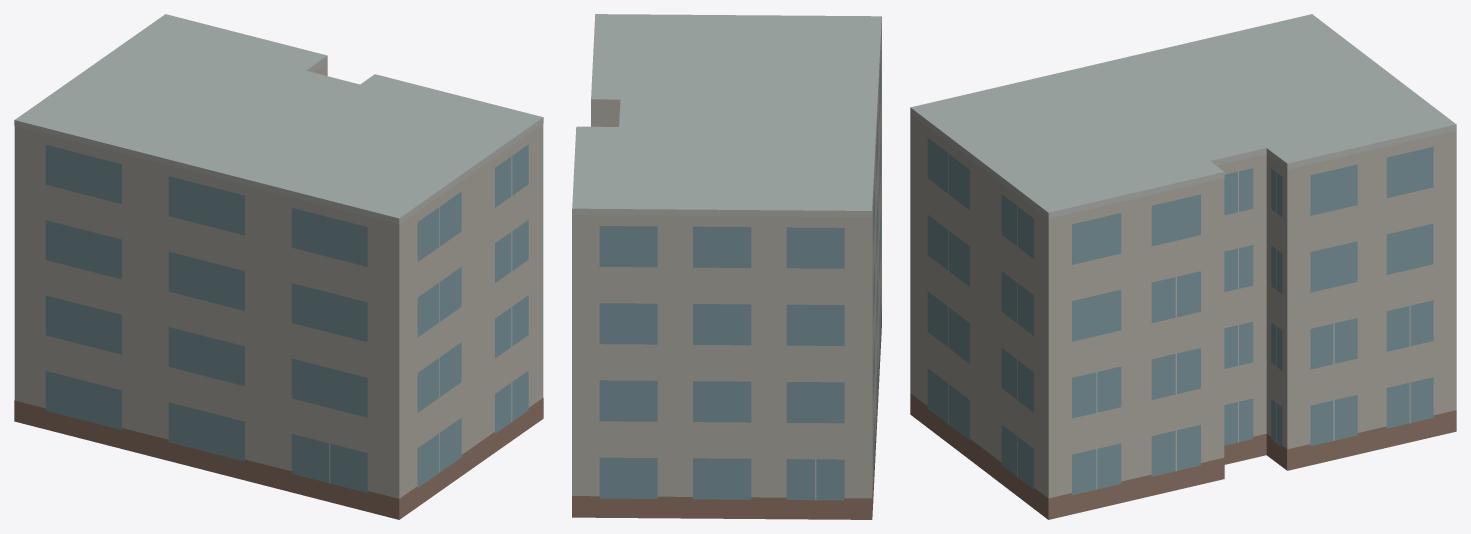
File: survey-upis-32778810.glb
3 renders of one model, left to right at view 1: azimuth 30°, elevation 25°; view 2: azimuth 150°, elevation 25°; view 3: azimuth 270°, elevation 25°, orthographic. The views are drawn at different scales.
Parts seen in each view (by area): view 1: survey-upis-32778810.tmp; view 2: survey-upis-32778810.tmp; view 3: survey-upis-32778810.tmp.
Part boxes in pixels (left/top/right/bottom): survey-upis-32778810.tmp: left=14, top=14, right=543, bottom=519; survey-upis-32778810.tmp: left=572, top=14, right=881, bottom=519; survey-upis-32778810.tmp: left=910, top=14, right=1456, bottom=519.
Bounding box in the file's own units: 17.22 × 12.4 × 19.99.
